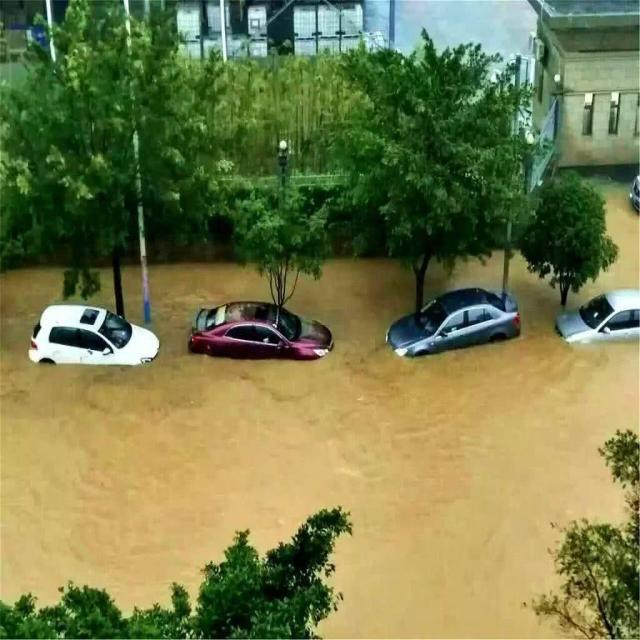water: (0, 251, 639, 638), (566, 176, 635, 304), (421, 247, 501, 310)
